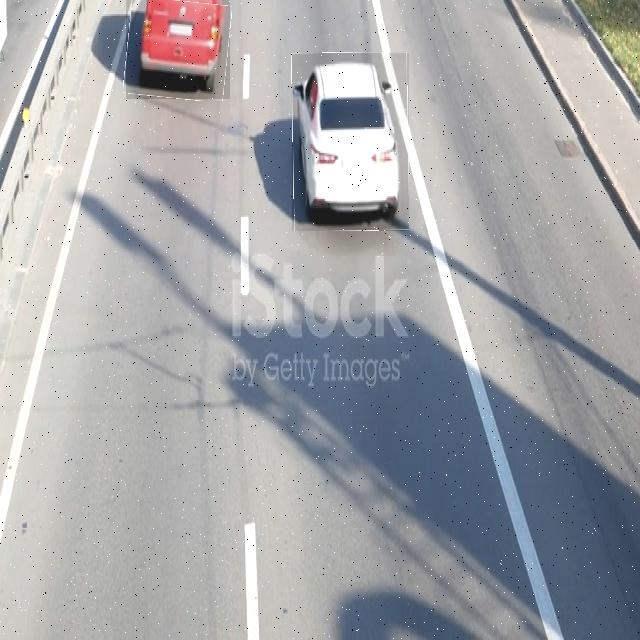Car: (292, 53, 409, 231), (126, 0, 230, 99)
